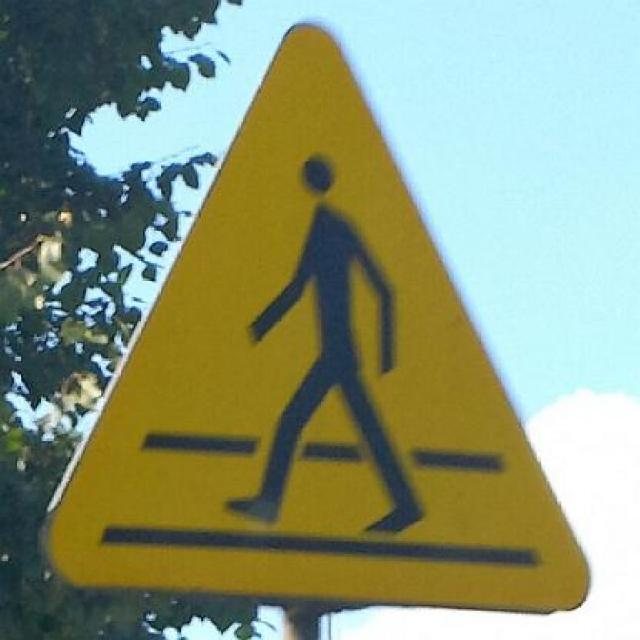Przejscie dla pieszych: (41, 22, 590, 615)
